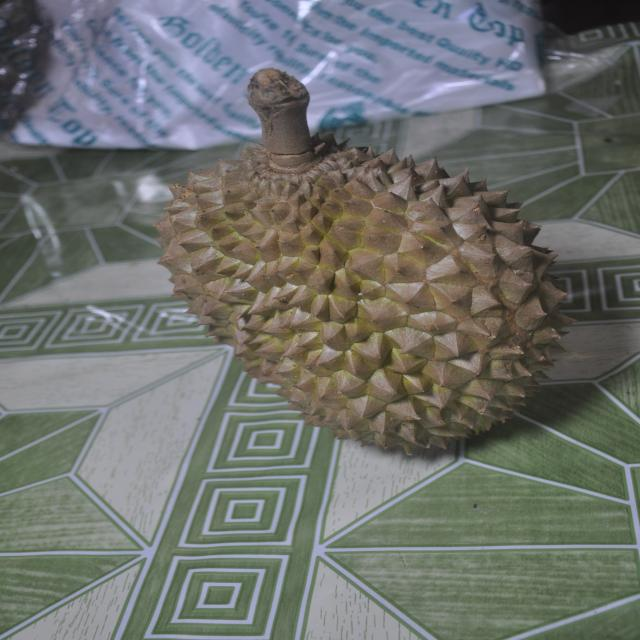mature: (155, 69, 573, 454)
